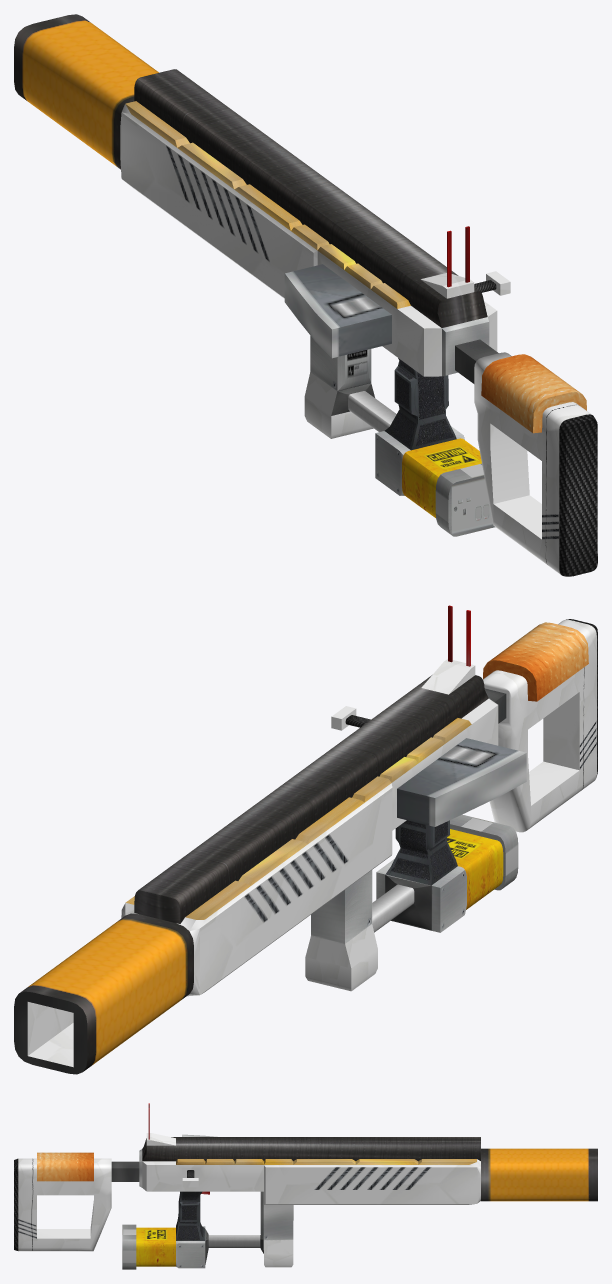
3 views of the same model, one above another, from view 1: azimuth 30°, elevation 25°; view 2: azimuth 150°, elevation 25°; view 3: azimuth 270°, elevation 25° (orthographic). The views are drawn at different scales.
Visible parts, largest first — view 1: SR01; view 2: SR01; view 3: SR01.
Boxes of the visible parts, left/top/right/bottom form: SR01: left=14, top=14, right=597, bottom=576; SR01: left=14, top=605, right=597, bottom=1074; SR01: left=14, top=1103, right=597, bottom=1269.
Size of the model in its own units: 49.46 by 74.57 by 253.
Materials: 1 (1 with a texture image).
